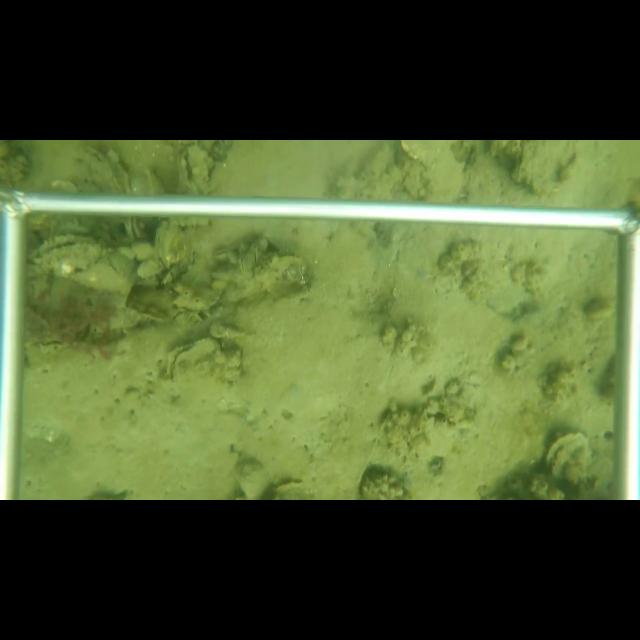Oyster-Closed: (84, 143, 128, 195), (153, 225, 190, 273), (209, 248, 235, 260)
Oyster-Open: (27, 234, 104, 276), (165, 337, 223, 387), (542, 430, 594, 484), (176, 144, 210, 195), (125, 217, 145, 240)
